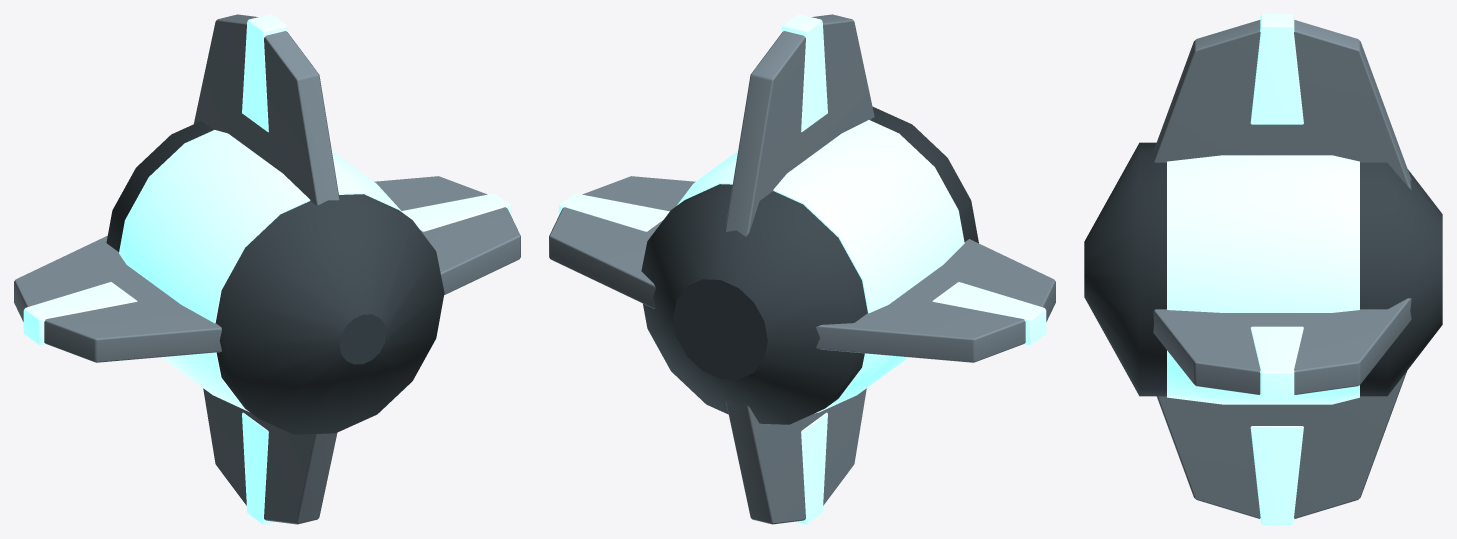
The model's file is zb_staurolobber.glb.
3 renders of one model, left to right at view 1: azimuth 30°, elevation 25°; view 2: azimuth 150°, elevation 25°; view 3: azimuth 270°, elevation 25°, orthographic.
Visible parts, largest first — view 1: zb_staurolobber / Carbon ceramic, zb_staurolobber / Machined titanium, zb_staurolobber / Ion exhaust; view 2: zb_staurolobber / Machined titanium, zb_staurolobber / Carbon ceramic, zb_staurolobber / Ion exhaust; view 3: zb_staurolobber / Machined titanium, zb_staurolobber / Ion exhaust, zb_staurolobber / Carbon ceramic.
Part boxes in pixels (bbox=[...]): zb_staurolobber / Carbon ceramic: bbox=[106, 121, 444, 434]; zb_staurolobber / Machined titanium: bbox=[14, 14, 520, 524]; zb_staurolobber / Ion exhaust: bbox=[23, 14, 511, 524]; zb_staurolobber / Machined titanium: bbox=[549, 14, 1055, 524]; zb_staurolobber / Carbon ceramic: bbox=[641, 107, 978, 424]; zb_staurolobber / Ion exhaust: bbox=[558, 14, 1046, 524]; zb_staurolobber / Machined titanium: bbox=[1153, 20, 1411, 518]; zb_staurolobber / Ion exhaust: bbox=[1167, 14, 1359, 524]; zb_staurolobber / Carbon ceramic: bbox=[1084, 142, 1442, 396].
Bounding box in the file's own units: 20 × 20 × 13.
